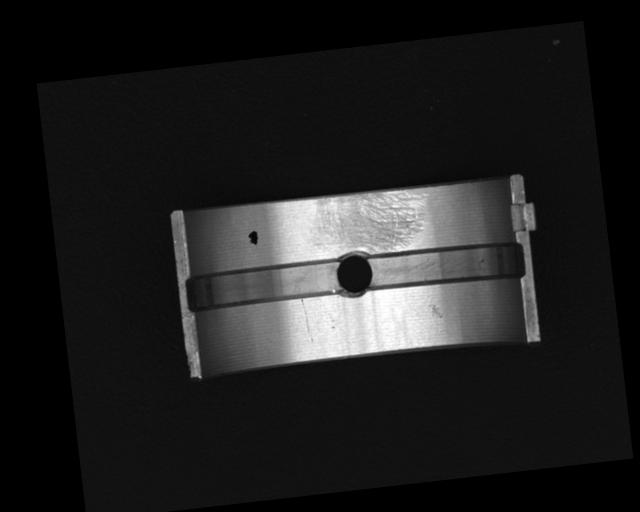blot: (246, 229, 260, 247)
bruise: (429, 303, 445, 320)
gap: (363, 237, 527, 294), (184, 256, 343, 312)
hole: (332, 248, 375, 302)
nick: (300, 297, 311, 334)
scratch: (305, 186, 431, 260)
